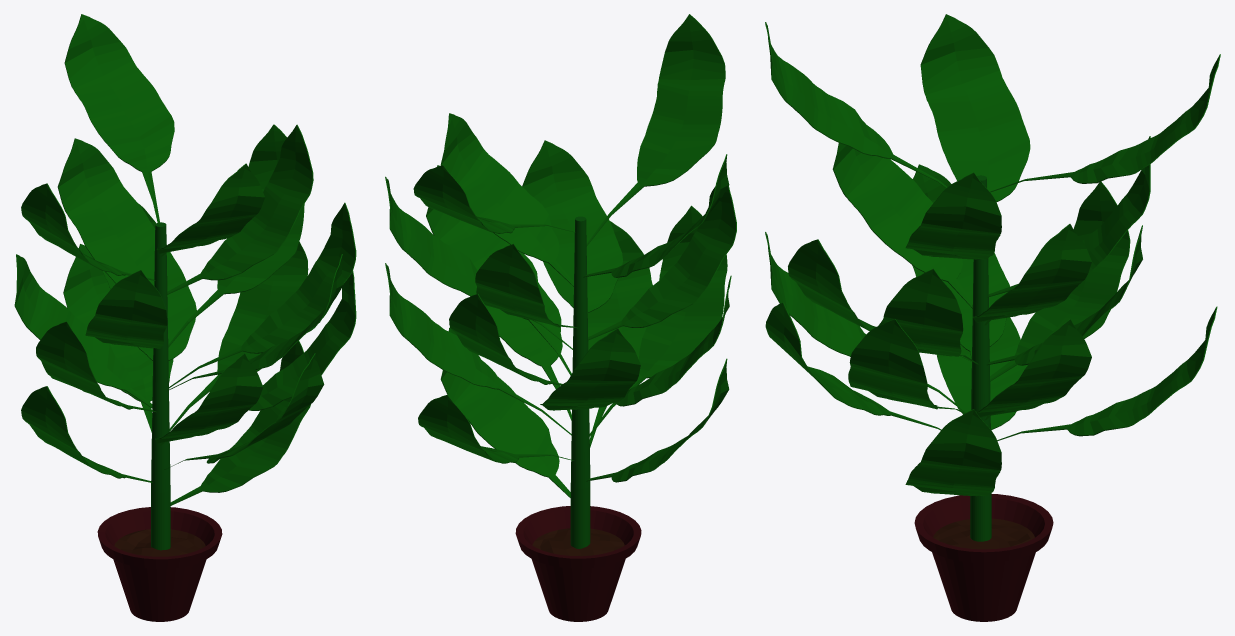
The model's file is BIGPLANT.fbx.
3 views of the same model, side by side, from view 1: azimuth 30°, elevation 25°; view 2: azimuth 150°, elevation 25°; view 3: azimuth 270°, elevation 25° (orthographic). The views are drawn at different scales.
Parts seen in each view (by area): view 1: Cube.008, Cube.011, Cylinder, Cube.004, Cube.016, Cylinder.001, Cube.010, Cube.009, Cube.012, Cube.013, Cube.003, Cube.002 (+10 smaller); view 2: Cube.007, Cube.001, Cylinder, Cube.004, Cube.010, Cube.012, Cube.002, Cylinder.001, Cube.009, Cube.013, Cube.011, Cube (+10 smaller); view 3: Cube.006, Cylinder, Cube.010, Cube.009, Cube.004, Cube.012, Cube.015, Cube.007, Cube, Cube.013, Cube.016, Cylinder.001 (+10 smaller).
Boxes of the visible parts, left/top/right/bottom form: Cube.008: left=64, top=14, right=174, bottom=222; Cube.011: left=57, top=138, right=167, bottom=285; Cylinder: left=97, top=507, right=222, bottom=621; Cube.004: left=167, top=124, right=313, bottom=294; Cube.016: left=169, top=202, right=356, bottom=388; Cylinder.001: left=151, top=222, right=170, bottom=550; Cube.010: left=85, top=270, right=167, bottom=348; Cube.009: left=14, top=254, right=152, bottom=407; Cube.012: left=170, top=341, right=310, bottom=505; Cube.013: left=169, top=241, right=308, bottom=431; Cube.003: left=63, top=244, right=173, bottom=432; Cube.002: left=155, top=353, right=263, bottom=446; Cube.007: left=586, top=14, right=725, bottom=246; Cube.001: left=522, top=140, right=622, bottom=313; Cylinder: left=515, top=506, right=641, bottom=621; Cube.004: left=440, top=113, right=573, bottom=286; Cube.010: left=588, top=186, right=736, bottom=340; Cube.012: left=440, top=327, right=570, bottom=497; Cube.002: left=589, top=205, right=727, bottom=436; Cylinder.001: left=570, top=216, right=590, bottom=548; Cube.009: left=540, top=328, right=640, bottom=410; Cube.013: left=385, top=263, right=571, bottom=435; Cube.011: left=475, top=243, right=577, bottom=328; Cube: left=385, top=176, right=572, bottom=349; Cube.006: left=920, top=14, right=1030, bottom=201; Cylinder: left=914, top=494, right=1053, bottom=621; Cube.010: left=832, top=121, right=972, bottom=308; Cube.009: left=990, top=181, right=1130, bottom=381; Cube.004: left=905, top=172, right=1001, bottom=259; Cube.012: left=905, top=409, right=1001, bottom=496; Cube.015: left=848, top=319, right=964, bottom=413; Cube.007: left=765, top=22, right=947, bottom=188; Cube: left=972, top=224, right=1091, bottom=325; Cube.013: left=976, top=319, right=1091, bottom=420; Cube.016: left=878, top=268, right=978, bottom=364; Cylinder.001: left=970, top=175, right=991, bottom=541.
Bounding box in the file's own units: 290 × 478 × 341.
